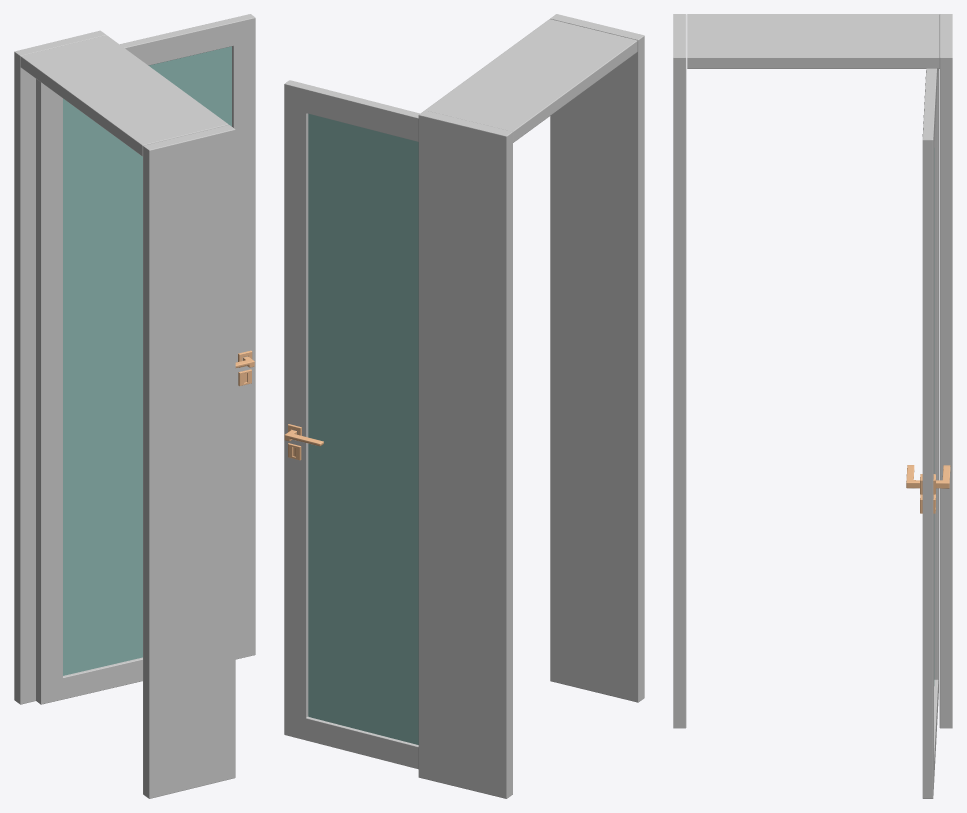
Rendered from DOOR_masterbedroom.FBX.
3 renders of one model, left to right at view 1: azimuth 30°, elevation 25°; view 2: azimuth 150°, elevation 25°; view 3: azimuth 270°, elevation 25°, orthographic. The views are drawn at different scales.
Visible parts, largest first — view 1: DOOR_masterbedroom; view 2: DOOR_masterbedroom; view 3: DOOR_masterbedroom.
Boxes of the visible parts, x1,y1,x2,y2 form: DOOR_masterbedroom: (14, 14, 255, 798); DOOR_masterbedroom: (284, 14, 644, 798); DOOR_masterbedroom: (673, 14, 952, 798).
Bounding box in the file's own units: 87.88 × 90.51 × 240.
